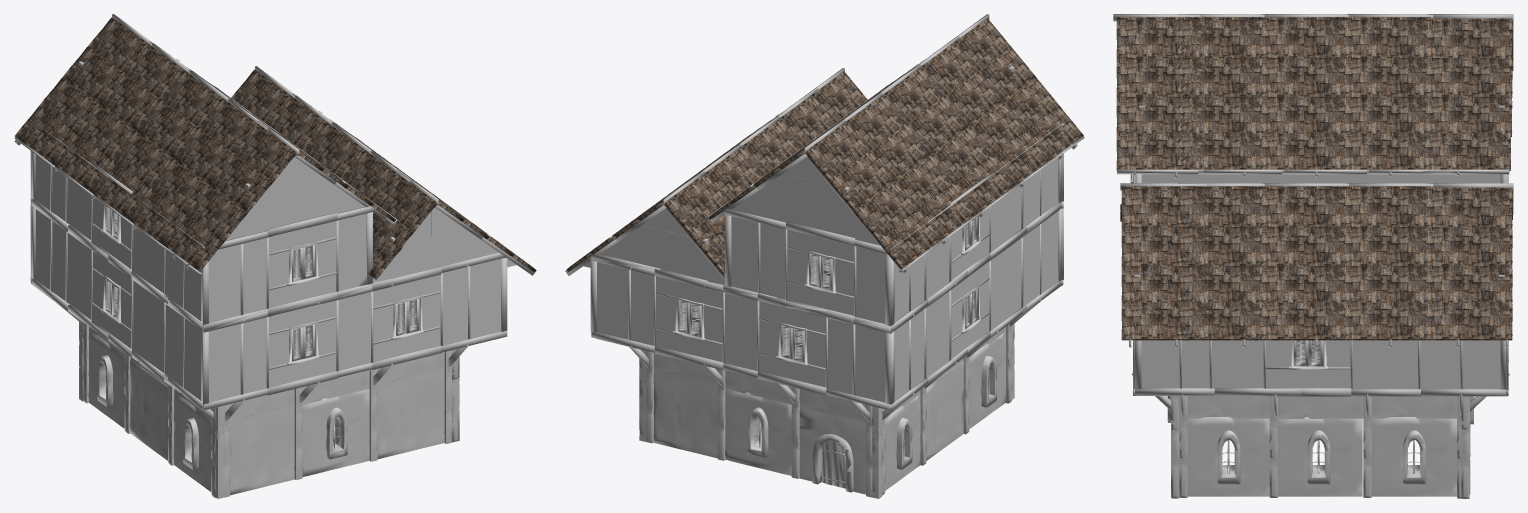
Rendered from Casa_V4_Red.fbx.
3 renders of one model, left to right at view 1: azimuth 30°, elevation 25°; view 2: azimuth 150°, elevation 25°; view 3: azimuth 270°, elevation 25°, orthographic. The views are drawn at different scales.
Visible parts, largest first — view 1: viga_madera_v1__6__12; view 2: viga_madera_v1__6__12; view 3: viga_madera_v1__6__12.
Boxes of the visible parts, bbox=[...] form: viga_madera_v1__6__12: bbox=[14, 14, 536, 498]; viga_madera_v1__6__12: bbox=[565, 14, 1084, 498]; viga_madera_v1__6__12: bbox=[1113, 14, 1513, 498].
Bounding box in the file's own units: 1465 × 1441 × 1356.
